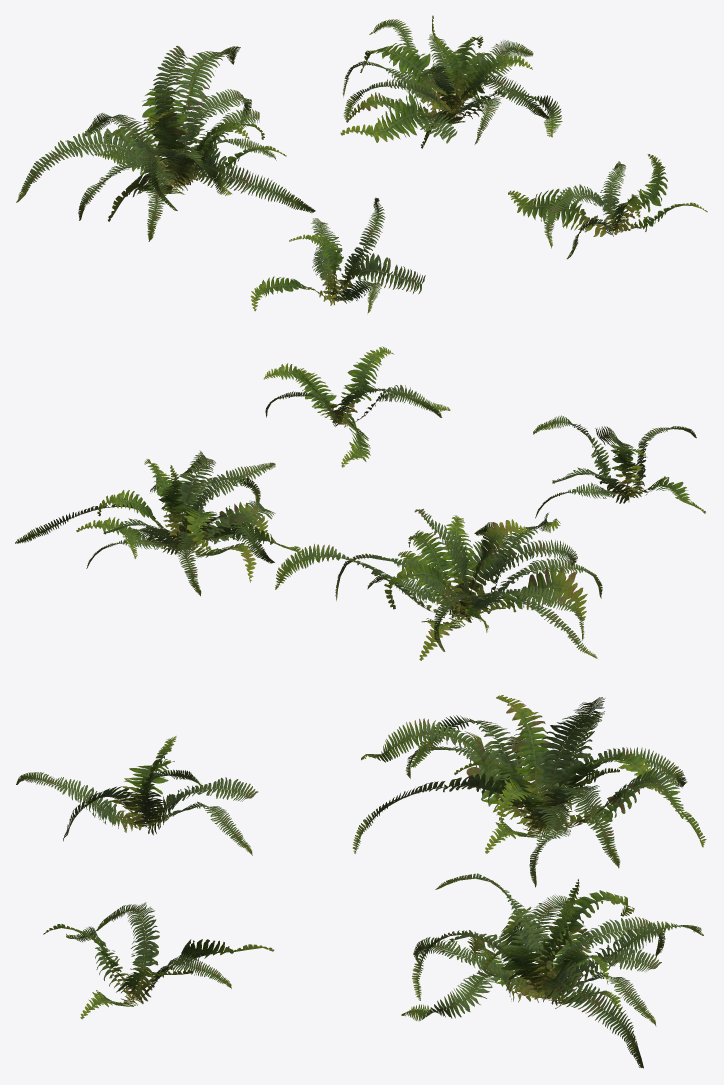
Rendered from fern.glb.
3 views of the same model, one above another, from view 1: azimuth 30°, elevation 25°; view 2: azimuth 150°, elevation 25°; view 3: azimuth 270°, elevation 25° (orthographic). The views are drawn at different scales.
Parts seen in each view (by area): view 1: fern_02_b, fern_02_c, fern_02_a, fern_02_d; view 2: fern_02_b, fern_02_c, fern_02_d, fern_02_a; view 3: fern_02_b, fern_02_c, fern_02_a, fern_02_d.
Boxes of the visible parts, left/top/right/bottom form: fern_02_b: left=16, top=46, right=315, bottom=241; fern_02_c: left=340, top=15, right=562, bottom=148; fern_02_a: left=250, top=197, right=425, bottom=313; fern_02_d: left=508, top=154, right=707, bottom=259; fern_02_b: left=275, top=508, right=602, bottom=660; fern_02_c: left=15, top=450, right=302, bottom=596; fern_02_d: left=263, top=346, right=450, bottom=467; fern_02_a: left=533, top=415, right=705, bottom=518; fern_02_b: left=352, top=695, right=706, bottom=887; fern_02_c: left=401, top=873, right=703, bottom=1068; fern_02_a: left=16, top=736, right=258, bottom=855; fern_02_d: left=43, top=902, right=274, bottom=1019.
Size of the model in its own units: 1.97 by 0.4277 by 1.72.
1 material, 1 textured.
